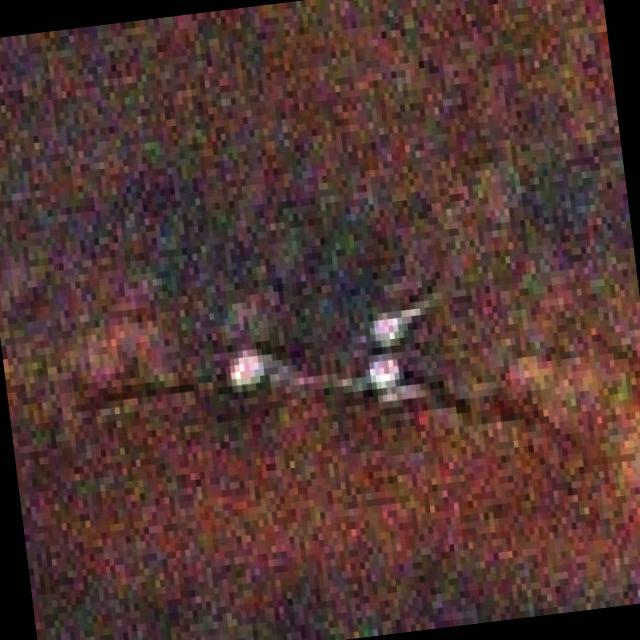crack: (89, 344, 248, 458)
